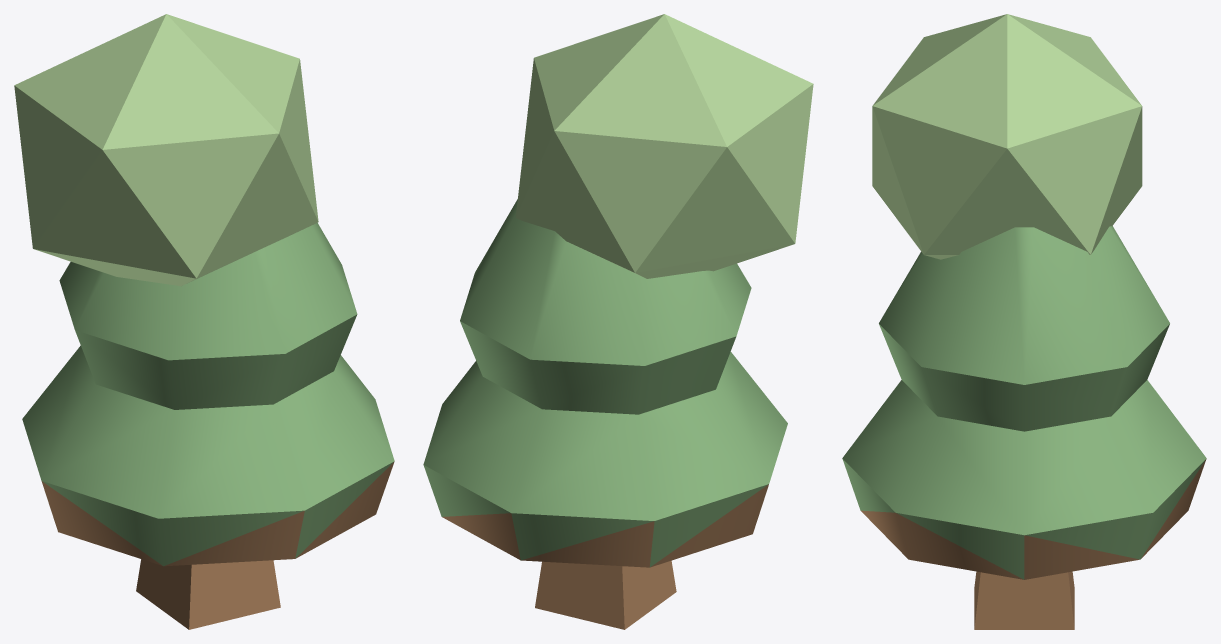
File: RuinPillar.fbx
The picture shows the model from 3 angles, left to right: view 1: azimuth 30°, elevation 25°; view 2: azimuth 150°, elevation 25°; view 3: azimuth 270°, elevation 25°; orthographic projection. The views are drawn at different scales.
Visible parts, largest first — view 1: RuinPillar.001; view 2: RuinPillar.001; view 3: RuinPillar.001.
Part boxes in pixels (x1,y1,x2,y2): RuinPillar.001: [14, 14, 394, 629]; RuinPillar.001: [423, 14, 813, 629]; RuinPillar.001: [842, 14, 1206, 629].
Size of the model in its own units: 89.49 by 147 by 85.
